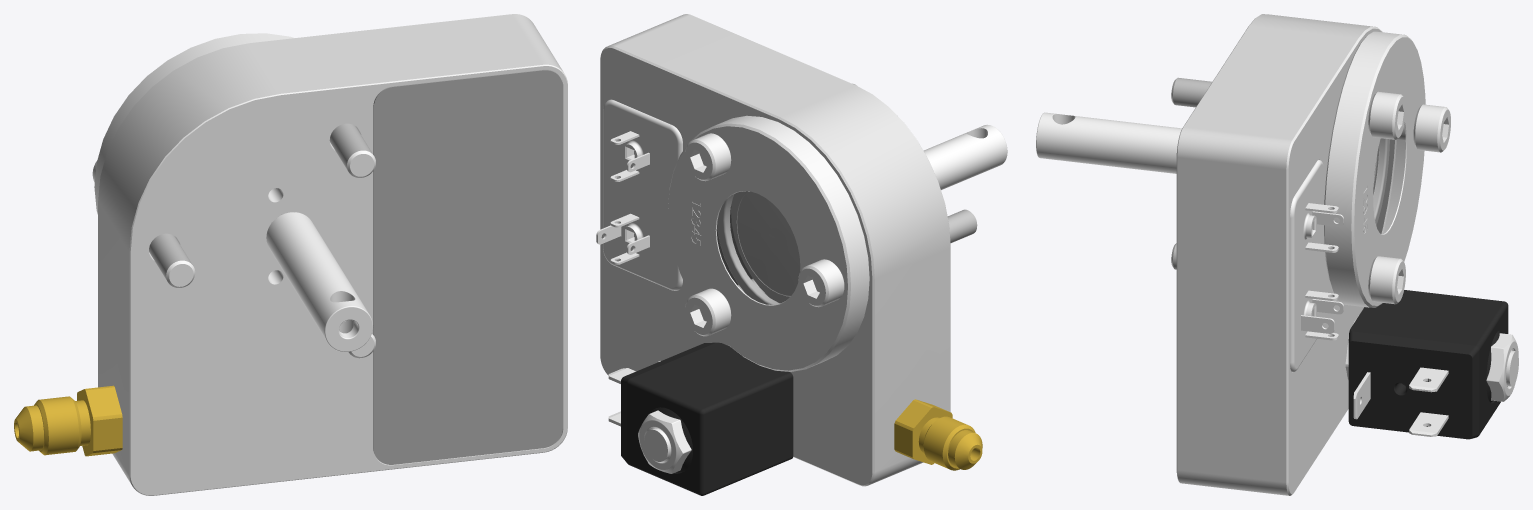
Rendered from COM-Compressor Oil Management.glb.
The picture shows the model from 3 angles, left to right: view 1: azimuth 30°, elevation 25°; view 2: azimuth 150°, elevation 25°; view 3: azimuth 270°, elevation 25°; orthographic projection. The views are drawn at different scales.
Parts seen in each view (by area): view 1: BASE_UNIT-3D-Correct coil direction, BASE_UNIT-3D-Correct coil direction.006, BASE_UNIT-3D-Correct coil direction.001, BASE_UNIT-3D-Correct coil direction.003, BASE_UNIT-3D-Correct coil direction.005; view 2: BASE_UNIT-3D-Correct coil direction, BASE_UNIT-3D-Correct coil direction.006, BASE_UNIT-3D-Correct coil direction.002, BASE_UNIT-3D-Correct coil direction.003, BASE_UNIT-3D-Correct coil direction.001, BASE_UNIT-3D-Correct coil direction.005; view 3: BASE_UNIT-3D-Correct coil direction, BASE_UNIT-3D-Correct coil direction.006, BASE_UNIT-3D-Correct coil direction.001, BASE_UNIT-3D-Correct coil direction.002, BASE_UNIT-3D-Correct coil direction.005.
Boxes of the visible parts, x1=… form: BASE_UNIT-3D-Correct coil direction: x1=92, y1=33, x2=567, y2=495; BASE_UNIT-3D-Correct coil direction.006: x1=98, y1=14, x2=563, y2=484; BASE_UNIT-3D-Correct coil direction.001: x1=266, y1=212, x2=373, y2=351; BASE_UNIT-3D-Correct coil direction.003: x1=14, y1=385, x2=122, y2=456; BASE_UNIT-3D-Correct coil direction.005: x1=149, y1=123, x2=375, y2=358; BASE_UNIT-3D-Correct coil direction: x1=596, y1=45, x2=948, y2=495; BASE_UNIT-3D-Correct coil direction.006: x1=609, y1=14, x2=950, y2=484; BASE_UNIT-3D-Correct coil direction.002: x1=717, y1=191, x2=799, y2=304; BASE_UNIT-3D-Correct coil direction.003: x1=894, y1=399, x2=982, y2=470; BASE_UNIT-3D-Correct coil direction.001: x1=923, y1=124, x2=1007, y2=189; BASE_UNIT-3D-Correct coil direction.005: x1=852, y1=83, x2=977, y2=242; BASE_UNIT-3D-Correct coil direction: x1=1176, y1=19, x2=1518, y2=495; BASE_UNIT-3D-Correct coil direction.006: x1=1177, y1=14, x2=1394, y2=495; BASE_UNIT-3D-Correct coil direction.001: x1=1036, y1=112, x2=1181, y2=173; BASE_UNIT-3D-Correct coil direction.002: x1=1373, y1=126, x2=1405, y2=233; BASE_UNIT-3D-Correct coil direction.005: x1=1171, y1=77, x2=1212, y2=269.
Bounding box in the file's own units: 0.6006 × 0.4638 × 0.5732.
9 materials, 1 textured.
